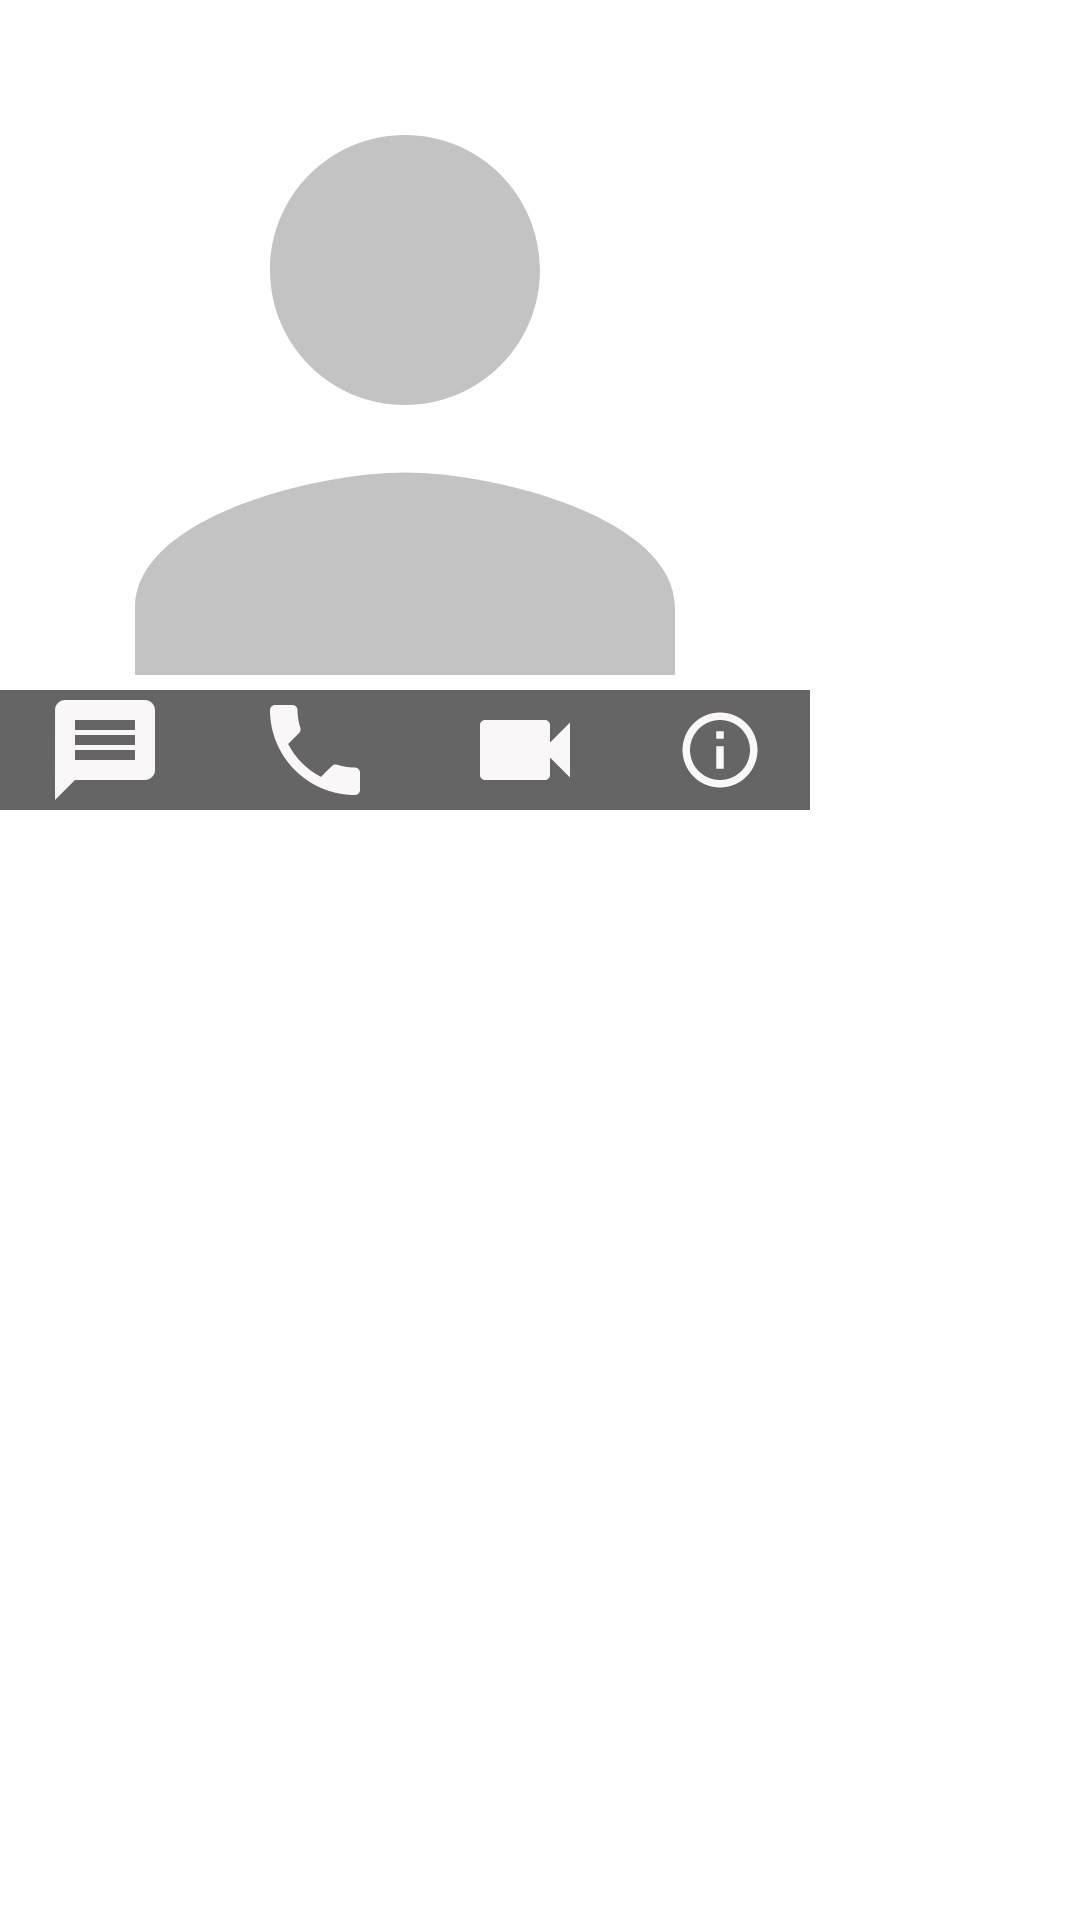

Icons on this 1080w x 1920h Android screen, each with the point to tap as (x=x, y=y):
info: (x=720, y=750)
message: (x=105, y=750)
phone: (x=315, y=750)
videocam: (x=525, y=750)
